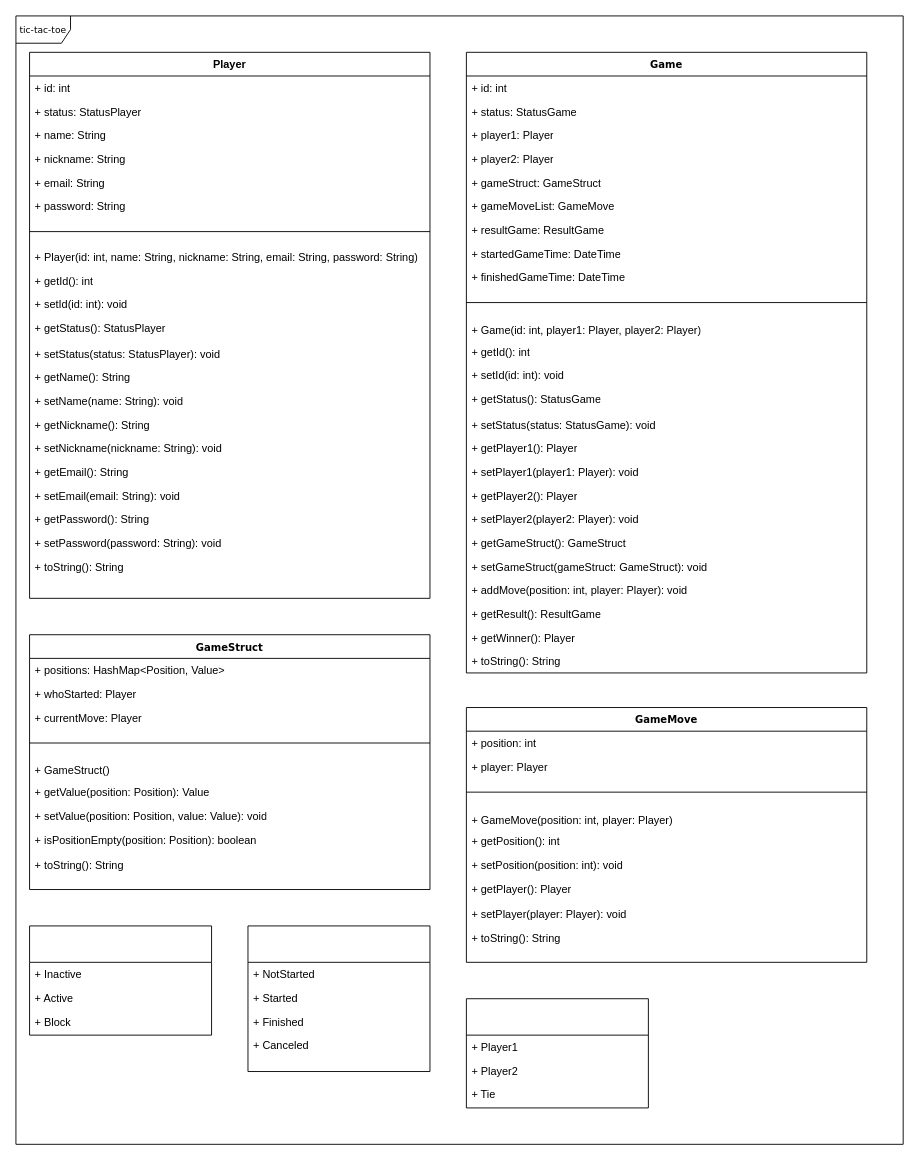
This 919x1160 diagram has some shape labels left out. Each missing label, with the box of its shape:
<<Enum>> ResultGame<<String>>: (465, 998, 648, 1108)
<<Enum>> StatusGame<<String>>: (247, 925, 430, 1072)
<<Enum>> StatusPlayer<<String>>: (29, 925, 212, 1035)
